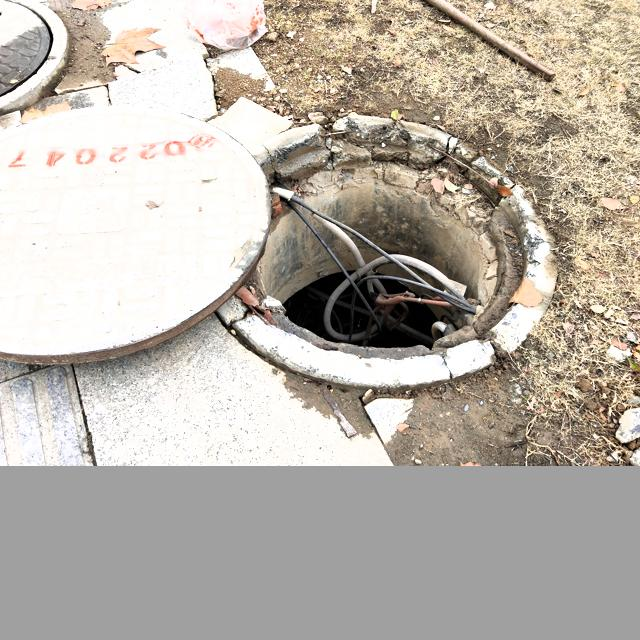uncovered: (0, 105, 556, 385)
